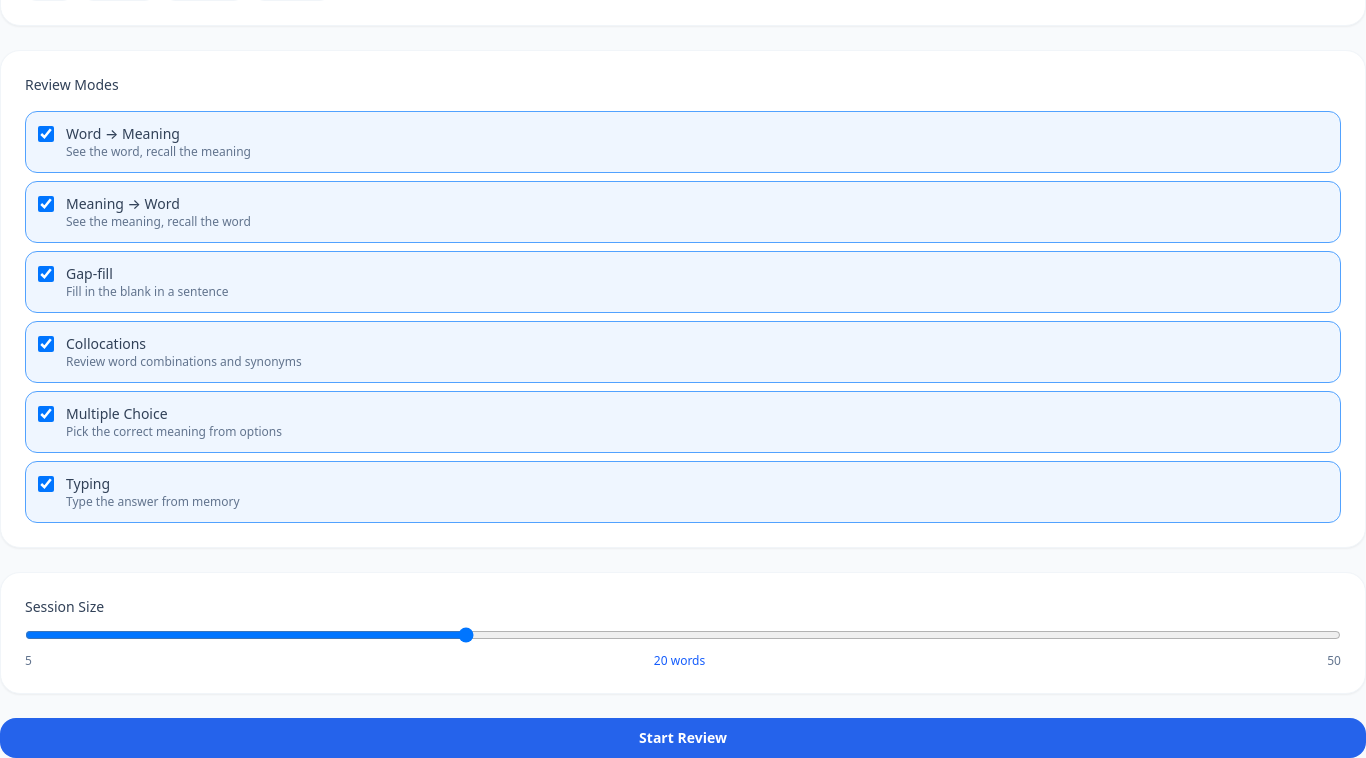
Test: VocabularyReview › shows review stats
(page scrolled)
Click the button "Start Review": (683, 738) [0,718,1365,757]
(page scrolled)
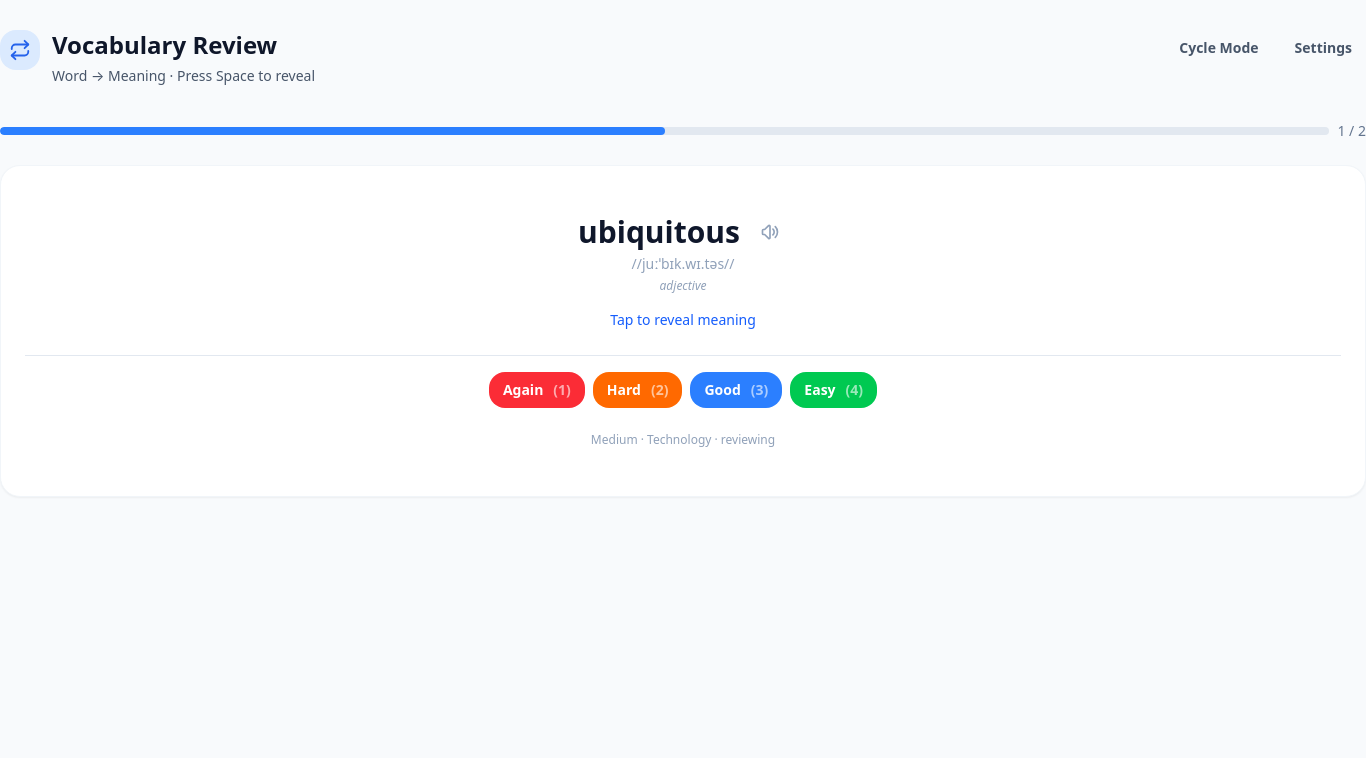
Expected: the element with test id "review-card" is shown, [0,164,1365,496]
Expected: the element with test id "review-progress" reads "1 / 2", [0,120,1365,140]
